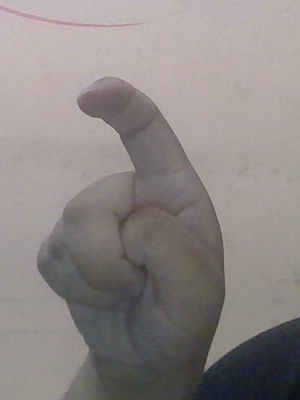X: (31, 72, 243, 376)
